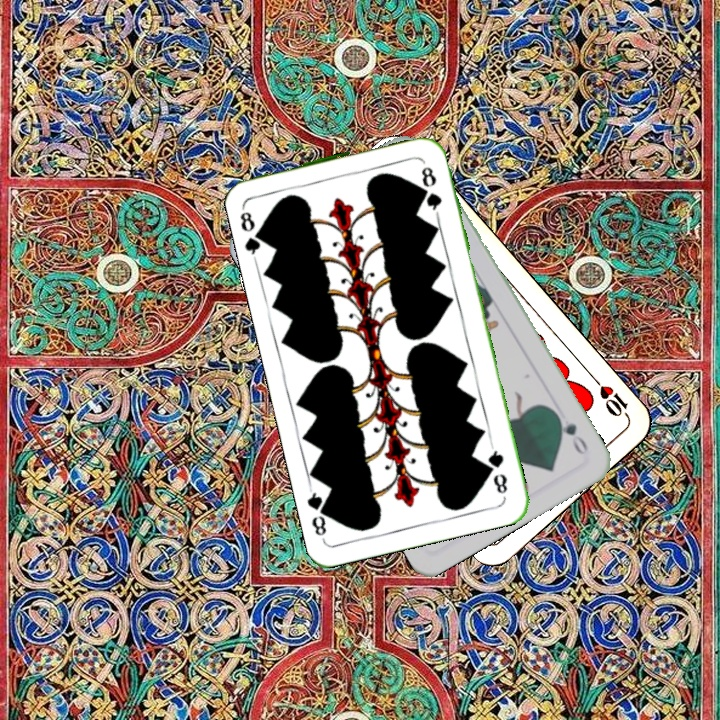G8: (236, 201, 269, 260), (483, 441, 510, 497)
GO: (551, 408, 591, 458)
H10: (588, 372, 632, 421)
